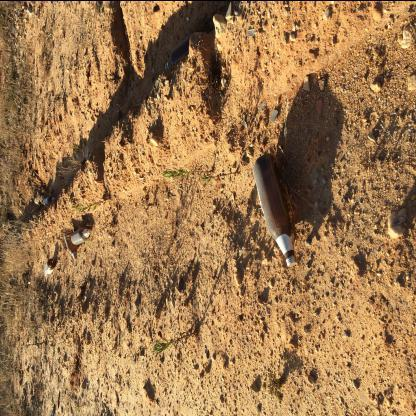cam: (253, 154, 299, 269), (65, 229, 79, 259), (72, 227, 93, 245), (45, 259, 57, 277), (46, 196, 57, 205)
